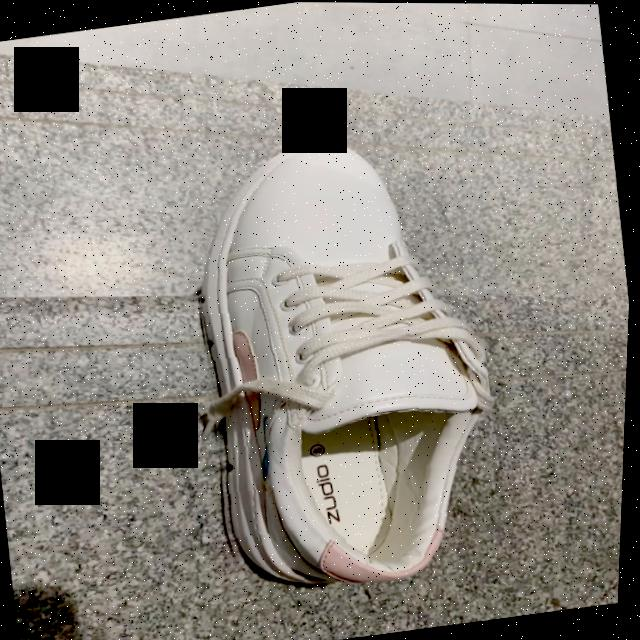shoe: (206, 143, 495, 590)
